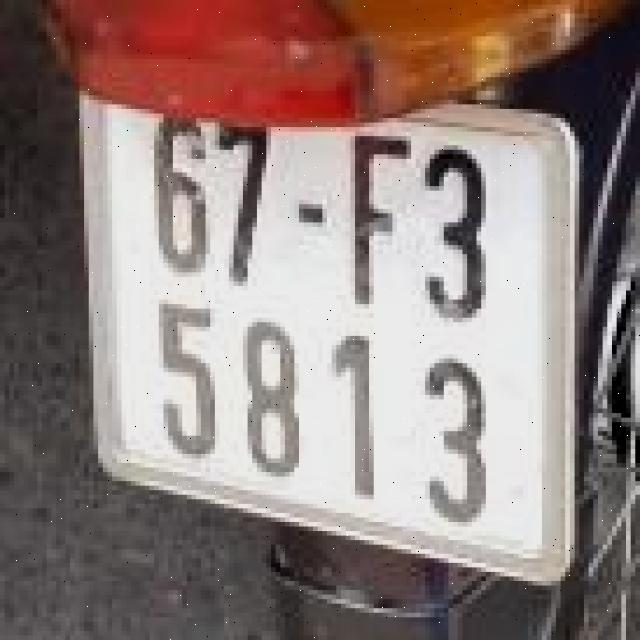1: (325, 327, 390, 508)
3: (416, 350, 495, 531), (420, 141, 490, 327)
5: (145, 291, 224, 458)
6: (138, 109, 217, 272)
7: (215, 113, 280, 286)
8: (236, 304, 311, 486)
F: (339, 125, 418, 311)
